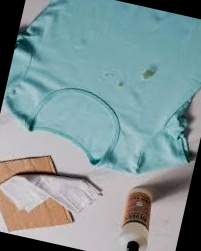oil: (139, 65, 158, 85), (113, 81, 126, 92), (103, 69, 117, 78)
